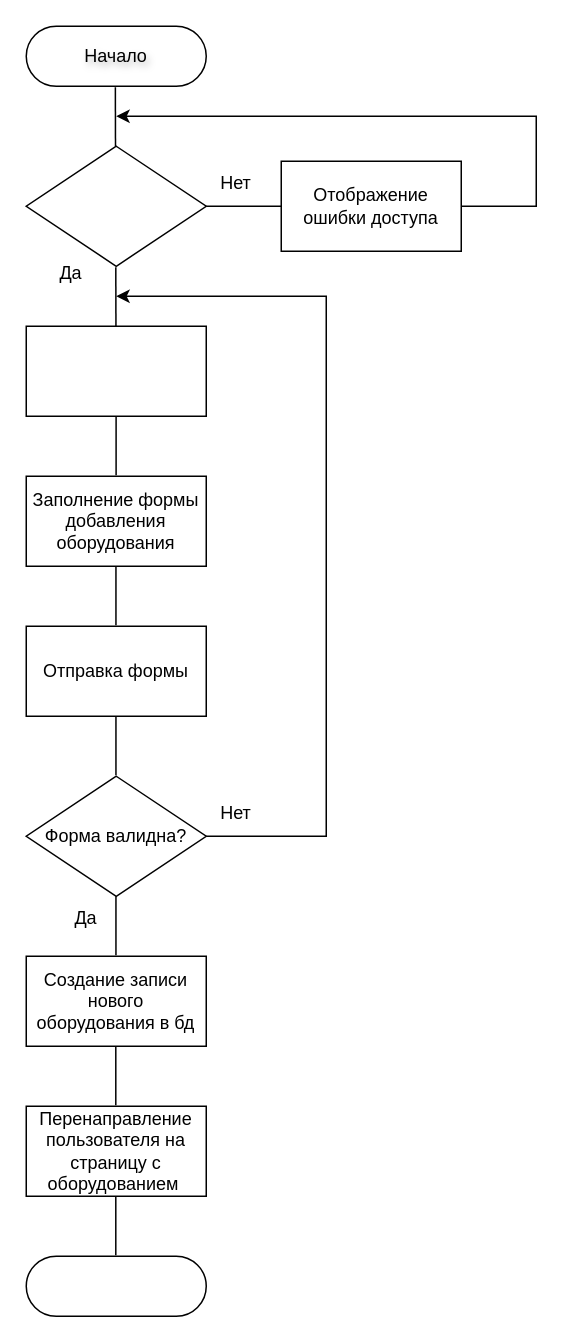
Some shapes in this 575 by 1343 pixel diagram are drawn without their labels. Here are the shapes that lost their labels. From the top down, the box of each, then its label:
(25, 145, 206, 266): Пользователь является лаборантом или преподавателем
(25, 325, 206, 416): Вывод формы создания оборудования
(25, 1255, 206, 1316): Конец
